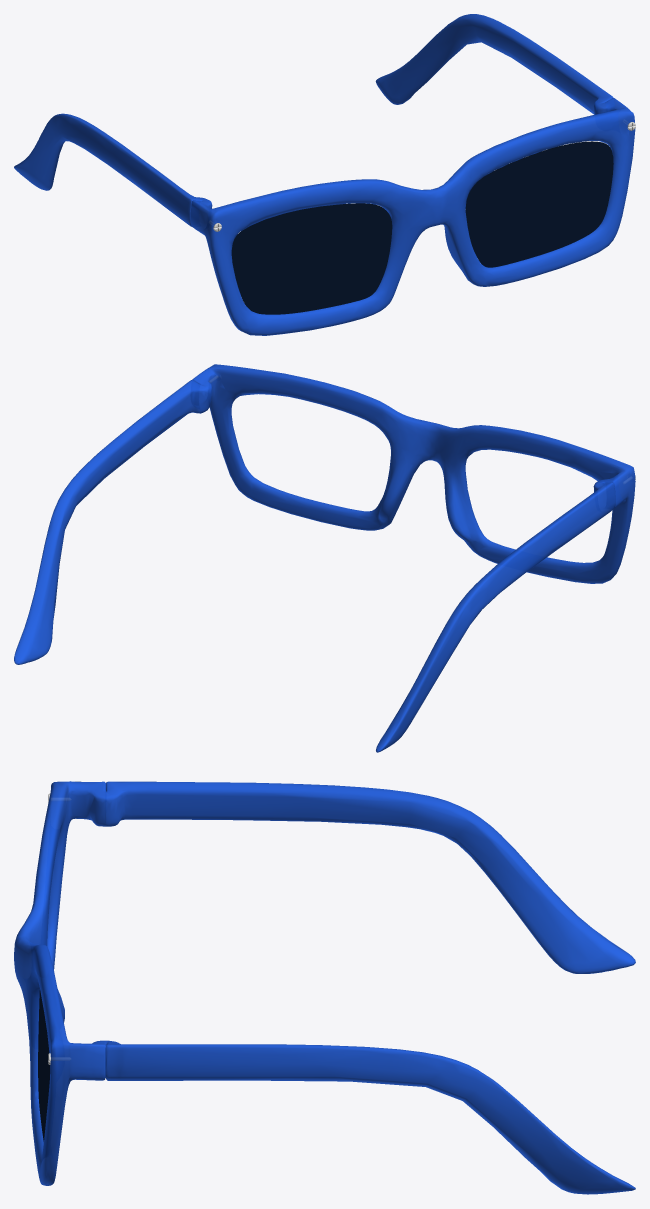
The model's file is glasses4.glb.
3 renders of one model, top to bottom at view 1: azimuth 30°, elevation 25°; view 2: azimuth 150°, elevation 25°; view 3: azimuth 270°, elevation 25°, orthographic. The views are drawn at different scales.
Parts seen in each view (by area): view 1: Cube.011_BluePlastic_0.005, Cube.013_BlueGlass_0; view 2: Cube.011_BluePlastic_0.005; view 3: Cube.011_BluePlastic_0.005, Cube.013_BlueGlass_0.
Part boxes in pixels (bbox=[...]): Cube.011_BluePlastic_0.005: bbox=[14, 14, 635, 335]; Cube.013_BlueGlass_0: bbox=[231, 141, 613, 314]; Cube.011_BluePlastic_0.005: bbox=[14, 364, 635, 752]; Cube.011_BluePlastic_0.005: bbox=[14, 781, 635, 1194]; Cube.013_BlueGlass_0: bbox=[38, 990, 50, 1141].
Bounding box in the file's own units: 1.07 × 0.3407 × 1.06.
